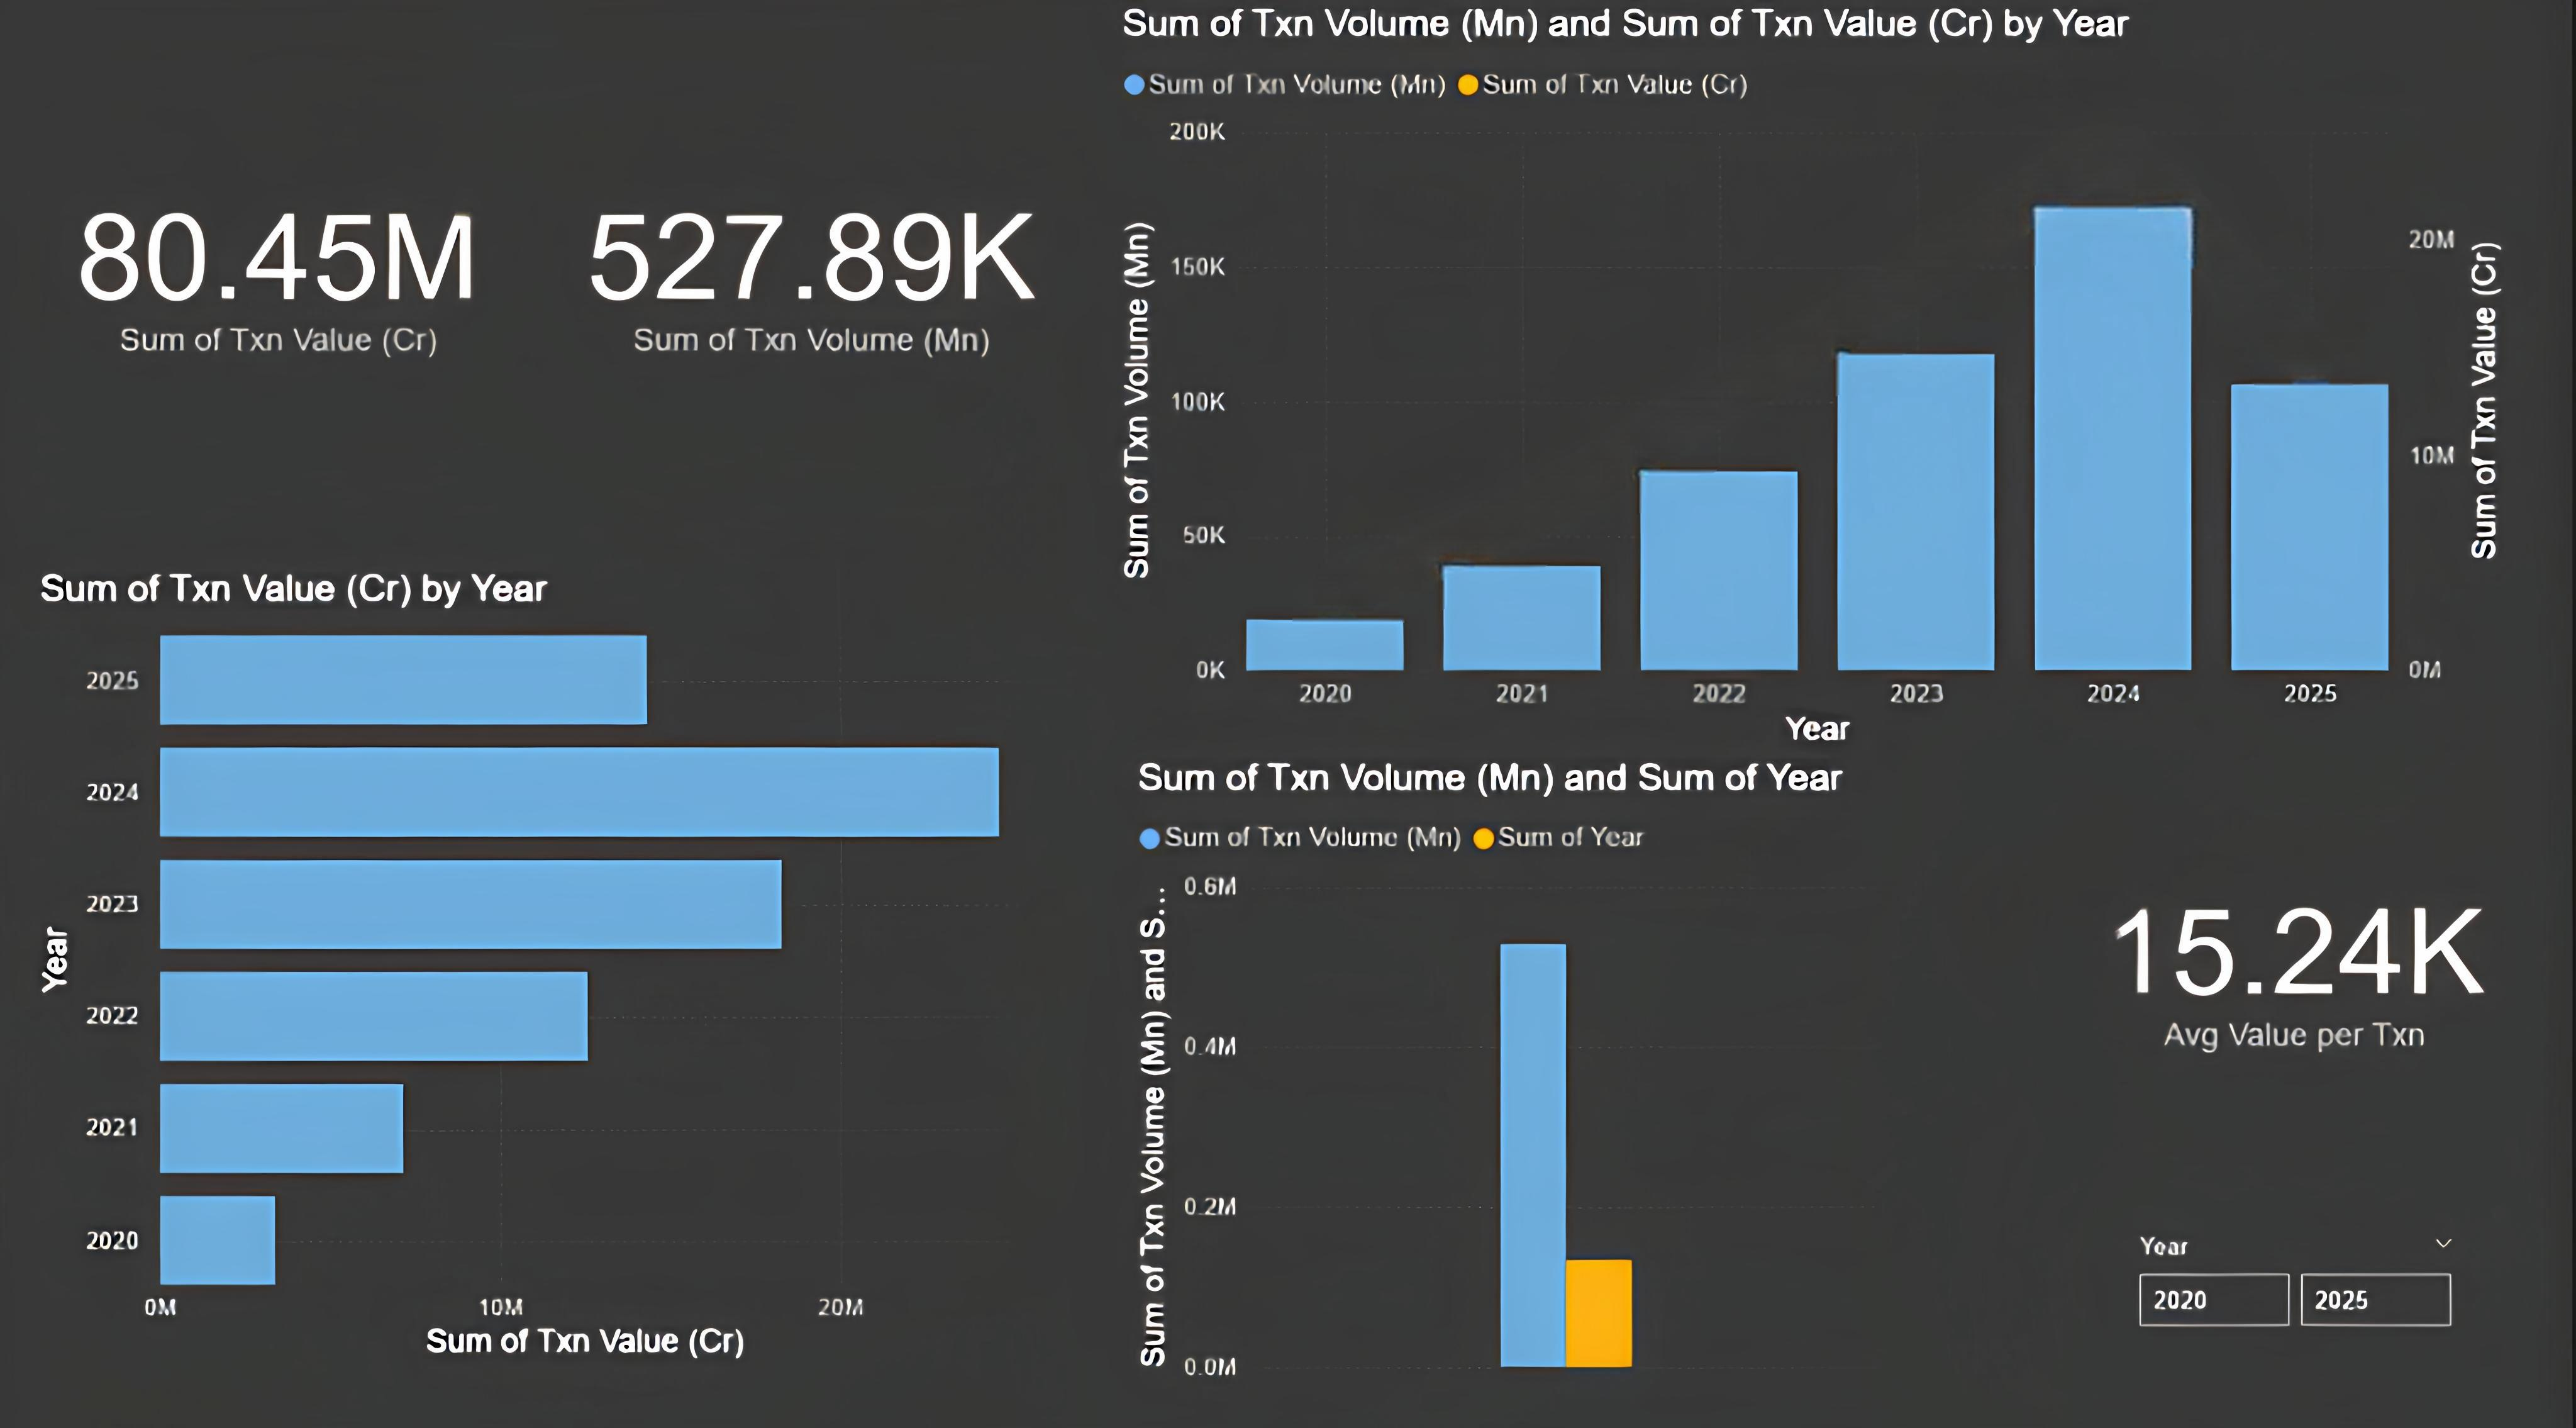

The dashboard page shown, as its layout file describes it:
{"tool":"powerbi","page":{"name":"Page 1","canvas":[1280,720],"ordinal":0},"visuals":[{"type":"card","fields":{"Values":["Sum(Sheet1.Txn Value (Cr))"]},"box":[0,0,279.9,279.9],"z":0},{"type":"card","fields":{"Values":["Sum(Sheet1.Txn Volume (Mn))"]},"box":[279.9,19.3,249.7,241.3],"z":1000},{"type":"card","fields":{"Values":["Sheet1.Avg Value per Txn"]},"box":[1000.1,359.5,279.9,248.5],"z":2000},{"type":"lineStackedColumnComboChart","fields":{"Category":["Sheet1.Month.Variation.Date Hierarchy.Year","Sheet1.Month.Variation.Date Hierarchy.Quarter","Sheet1.Month.Variation.Date Hierarchy.Month","Sheet1.Month.Variation.Date Hierarchy.Day"],"Y2":["Sum(Sheet1.Txn Value (Cr))"],"Y":["Sum(Sheet1.Txn Volume (Mn))"]},"box":[553.2,10,694.6,372.9],"z":4000},{"type":"clusteredColumnChart","fields":{"Y":["Sum(Sheet1.Txn Volume (Mn))","Sum(Sheet1.Year)"]},"box":[561,382.4,378.8,314.9],"z":5000},{"type":"clusteredBarChart","fields":{"Category":["Sheet1.Year"],"Y":["Sum(Sheet1.Txn Value (Cr))"]},"box":[16.9,289.5,503.1,396.9],"z":6000},{"type":"slicer","fields":{"Values":["Sheet1.Year"]},"box":[1049.6,612.9,181,84.5],"z":7000}]}

Visuals, with their boxes in screenshot pixels (x1, y1, x2, y2), scaled from the page's 1280x720 canvas onto the 2576x1428 screenshot:
card - Sum(Sheet1.Txn Value (Cr)): l=0, t=0, r=563, b=555
card - Sum(Sheet1.Txn Volume (Mn)): l=563, t=38, r=1066, b=517
card - Sheet1.Avg Value per Txn: l=2012, t=713, r=2575, b=1206
lineStackedColumnComboChart - Sheet1.Month.Variation.Date Hierarchy.Year x Sheet1.Month.Variation.Date Hierarchy.Quarter: l=1113, t=20, r=2511, b=759
clusteredColumnChart - Sum(Sheet1.Txn Volume (Mn)) x Sum(Sheet1.Year): l=1129, t=759, r=1891, b=1383
clusteredBarChart - Sheet1.Year x Sum(Sheet1.Txn Value (Cr)): l=34, t=574, r=1046, b=1361
slicer - Sheet1.Year: l=2112, t=1215, r=2477, b=1383
